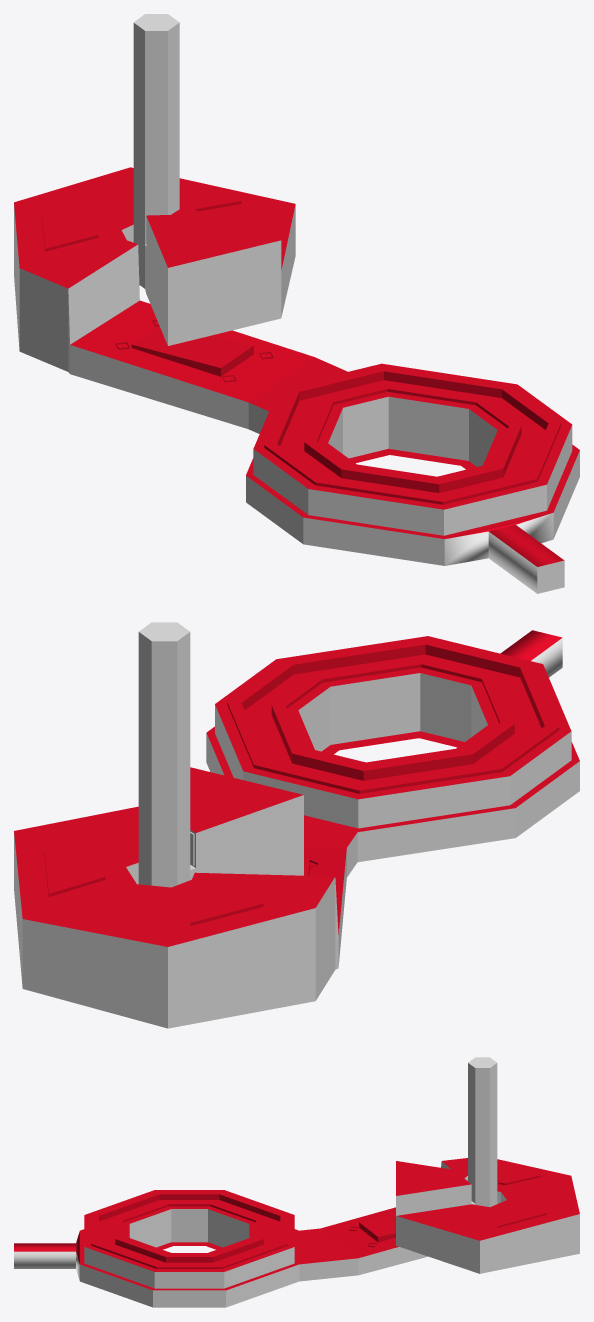
The model's file is CollectibleTracker.fbx.
3 renders of one model, top to bottom at view 1: azimuth 30°, elevation 25°; view 2: azimuth 150°, elevation 25°; view 3: azimuth 270°, elevation 25°, orthographic. The views are drawn at different scales.
Visible parts, largest first — view 1: CollectibleTrackerInteriorMesh; view 2: CollectibleTrackerInteriorMesh; view 3: CollectibleTrackerInteriorMesh.
Boxes of the visible parts, x1=… form: CollectibleTrackerInteriorMesh: x1=14, y1=14, x2=579, y2=593; CollectibleTrackerInteriorMesh: x1=14, y1=622, x2=579, y2=1028; CollectibleTrackerInteriorMesh: x1=14, y1=1057, x2=579, y2=1307.
Size of the model in its own units: 6031 by 5940 by 15478.
